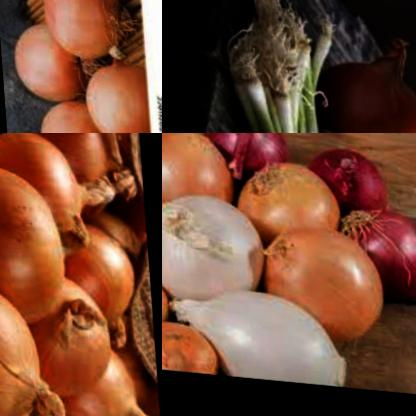onion: (162, 273, 341, 380), (251, 211, 385, 335), (13, 270, 115, 404), (0, 154, 72, 334), (162, 183, 270, 301), (236, 147, 352, 246), (323, 21, 416, 133), (52, 212, 139, 325), (332, 192, 416, 306), (0, 133, 93, 231), (30, 341, 140, 416), (0, 267, 53, 416), (34, 133, 127, 209), (6, 11, 84, 101), (299, 133, 389, 206), (74, 47, 146, 133), (37, 0, 126, 60), (162, 133, 235, 204), (23, 78, 113, 133), (193, 133, 289, 179), (162, 309, 212, 370)
